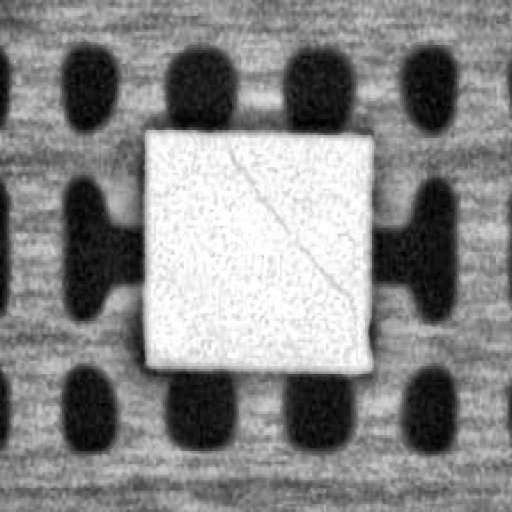DIE_CRACK: (225, 146, 353, 308)
